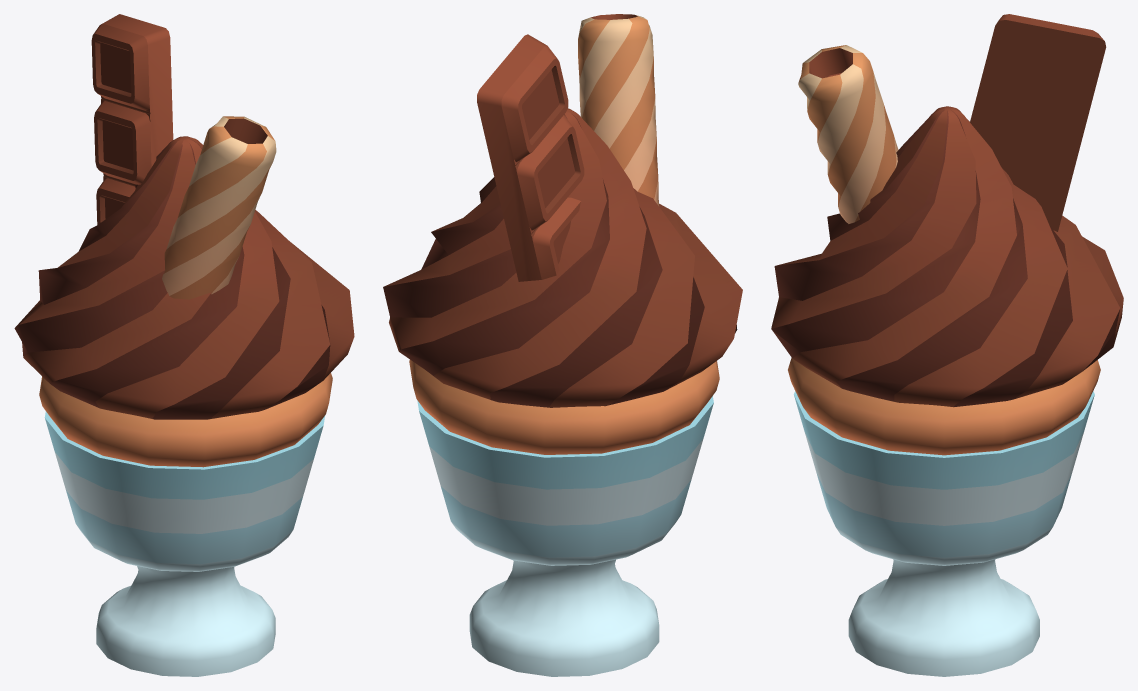
The model's file is Cupcake_Chocalate_V3_00.fbx.
3 views of the same model, side by side, from view 1: azimuth 30°, elevation 25°; view 2: azimuth 150°, elevation 25°; view 3: azimuth 270°, elevation 25° (orthographic). The views are drawn at different scales.
Parts seen in each view (by area): view 1: Cupcake_Chocalate_V3_00; view 2: Cupcake_Chocalate_V3_00; view 3: Cupcake_Chocalate_V3_00.
Part boxes in pixels (box(x1,y1,x2,y2)): Cupcake_Chocalate_V3_00: box(14, 14, 354, 676); Cupcake_Chocalate_V3_00: box(383, 14, 742, 676); Cupcake_Chocalate_V3_00: box(771, 14, 1123, 676).
Size of the model in its own units: 36.59 by 71.13 by 36.6.
